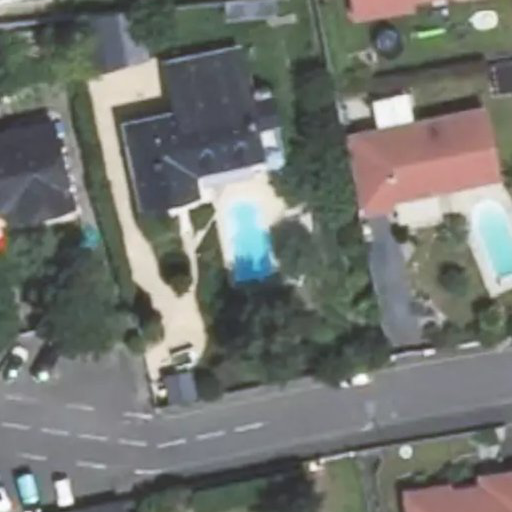pool: (228, 210, 282, 274)
